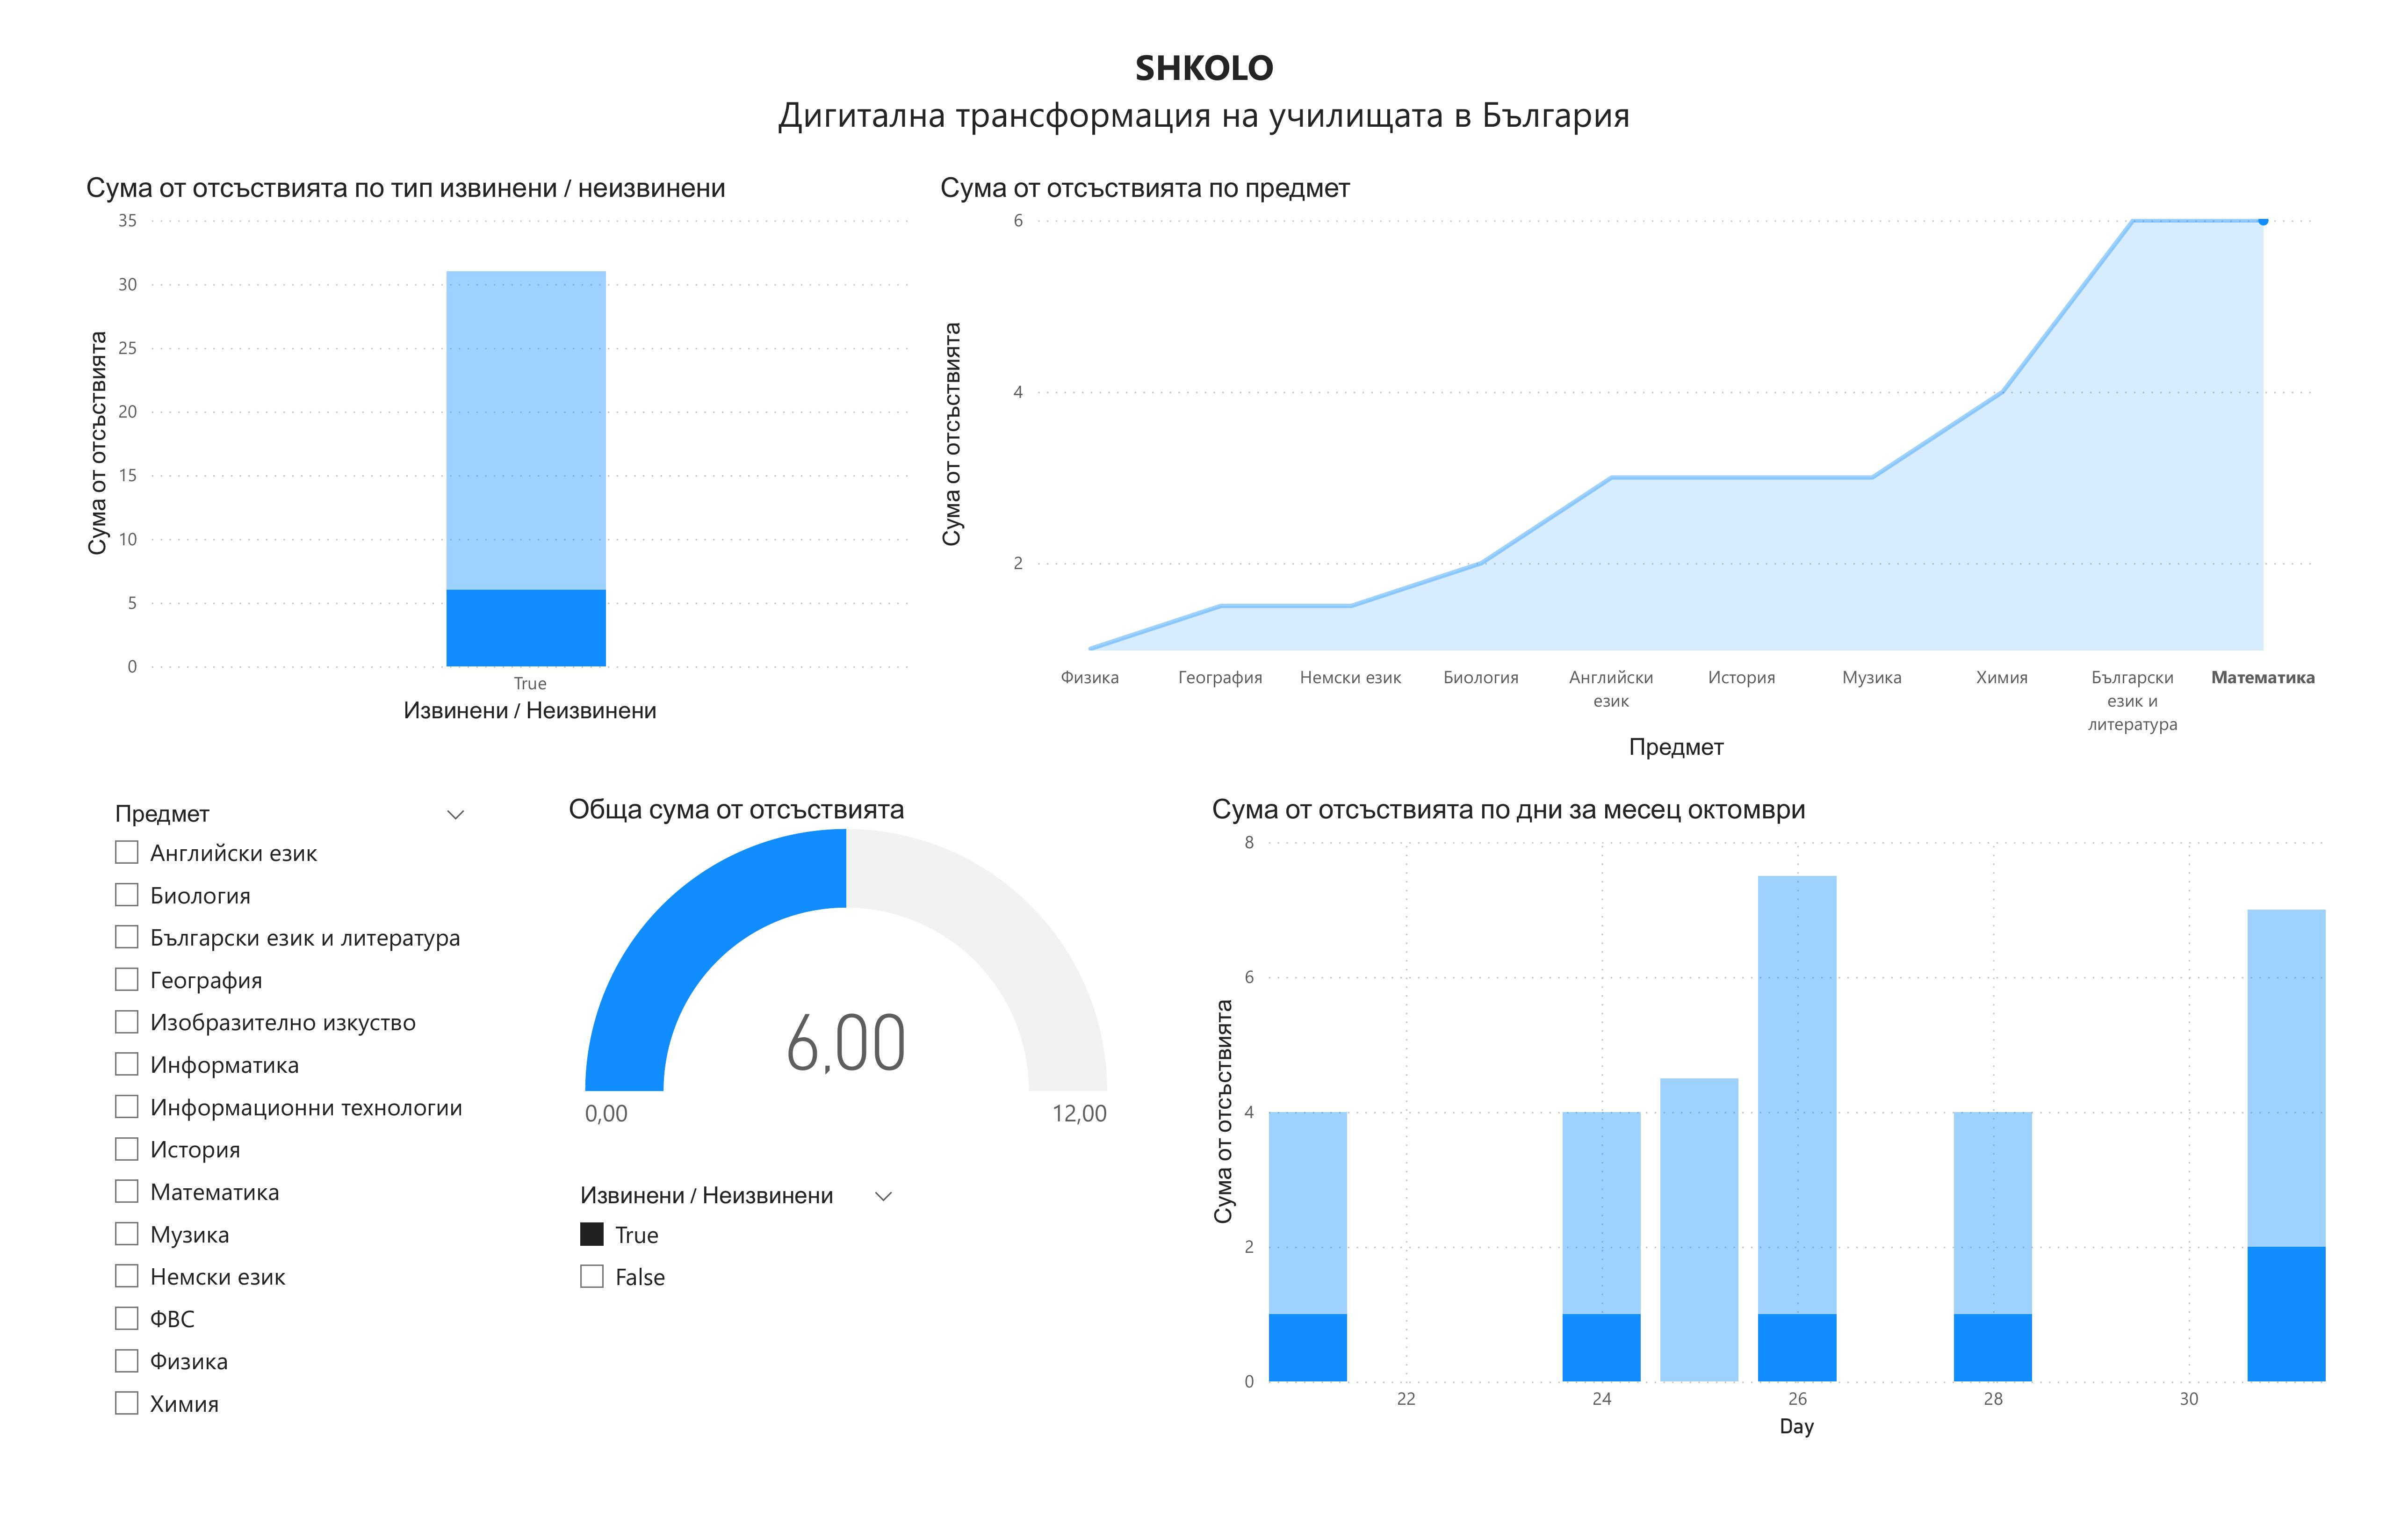

What the dashboard file says about the page in this screenshot:
{"tool":"powerbi","page":{"name":"Absences","canvas":[1600,1000],"ordinal":1},"visuals":[{"type":"lineStackedColumnComboChart","title":"Сума от отсъствията по тип извинени / неизвинени","fields":{"Category":["ABSENCE.IS_EXCUSED"],"Y":["Sum(ABSENCE.ABSENCE_AMOUNT)"]},"box":[30.2,93.8,572.9,381.9],"z":0},{"type":"textbox","box":[489.1,0,623.1,78.7],"z":1000},{"type":"lineClusteredColumnComboChart","title":"Сума от отсъствията по дни за месец октомври","fields":{"Y":["Sum(ABSENCE.ABSENCE_AMOUNT)"],"Category":["LESSON.DATE.Variation.Date Hierarchy.Day"]},"box":[800.7,519.3,772.2,445.6],"z":2000},{"type":"slicer","fields":{"Values":["ABSENCE.IS_EXCUSED"]},"box":[360.1,780.6,239.5,93.8],"z":3000},{"type":"slicer","fields":{"Values":["SUBJECT.SUBJECT_NAME"]},"box":[42.2,519.8,265,438.8],"z":4000},{"type":"gauge","fields":{"Y":["Sum(ABSENCE.ABSENCE_AMOUNT)"]},"box":[360.1,519.3,390.3,239.5],"z":5000},{"type":"stackedAreaChart","title":"Сума от отсъствията по предмет","fields":{"Y":["Sum(ABSENCE.ABSENCE_AMOUNT)"],"Category":["SUBJECT.SUBJECT_NAME"]},"box":[614.7,93.8,958.1,407],"z":6000}]}

Visuals, with their boxes on the page's 1600x1000 design canvas (x1, y1, x2, y2). These are canvas units, not pixel positions in the 2408x1532 screenshot, which may show the page scaled, cropped or inside an application window:
"Сума от отсъствията по тип извинени / неизвинени" lineStackedColumnComboChart: [x1=30, y1=94, x2=603, y2=476]
textbox: [x1=489, y1=0, x2=1112, y2=79]
"Сума от отсъствията по дни за месец октомври" lineClusteredColumnComboChart: [x1=801, y1=519, x2=1573, y2=965]
slicer - ABSENCE.IS_EXCUSED: [x1=360, y1=781, x2=600, y2=874]
slicer - SUBJECT.SUBJECT_NAME: [x1=42, y1=520, x2=307, y2=959]
gauge - Sum(ABSENCE.ABSENCE_AMOUNT): [x1=360, y1=519, x2=750, y2=759]
"Сума от отсъствията по предмет" stackedAreaChart: [x1=615, y1=94, x2=1573, y2=501]
